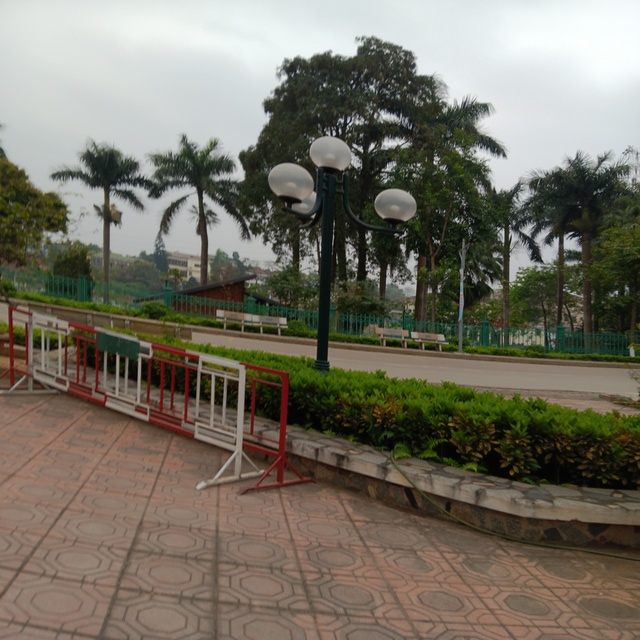cotden: (271, 135, 421, 376)
